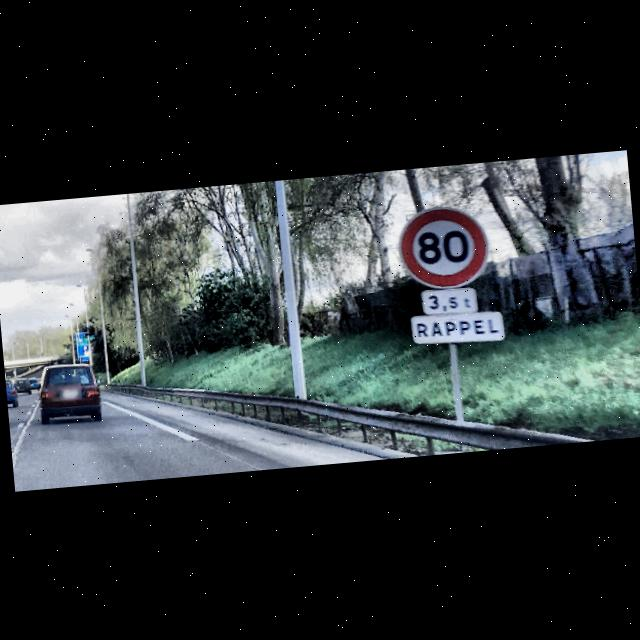speed_80: (392, 200, 492, 292)
